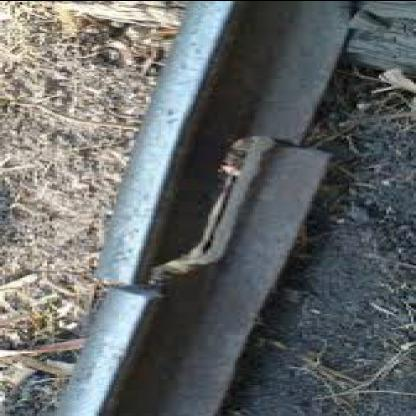Defective: (84, 61, 359, 397)
